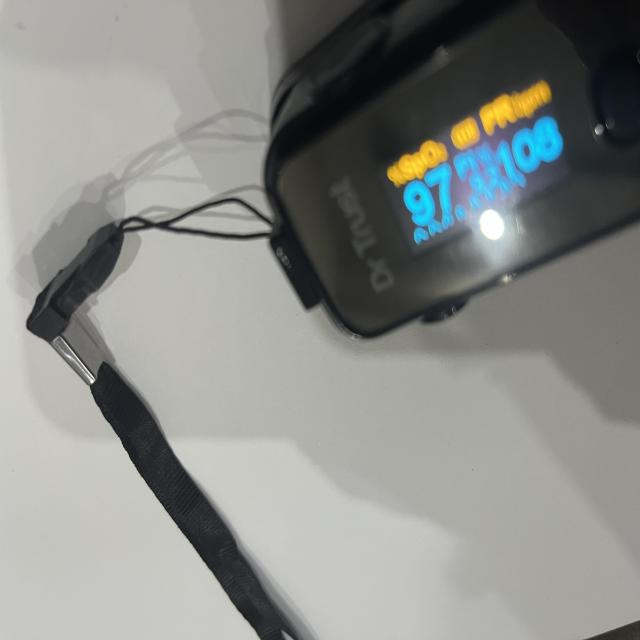spo2: (263, 0, 640, 341)
